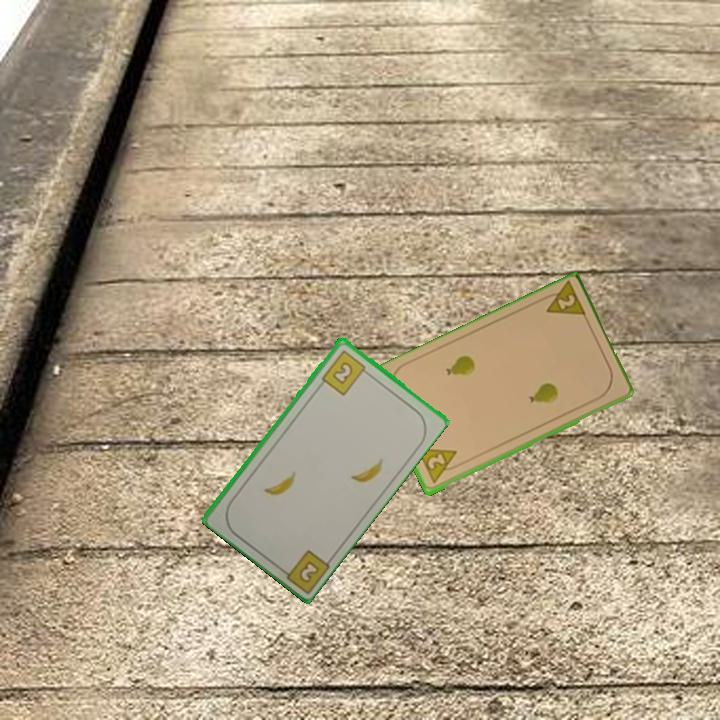2b: (318, 346, 372, 398), (275, 546, 333, 594)
2p: (536, 279, 589, 321), (414, 445, 464, 488)
